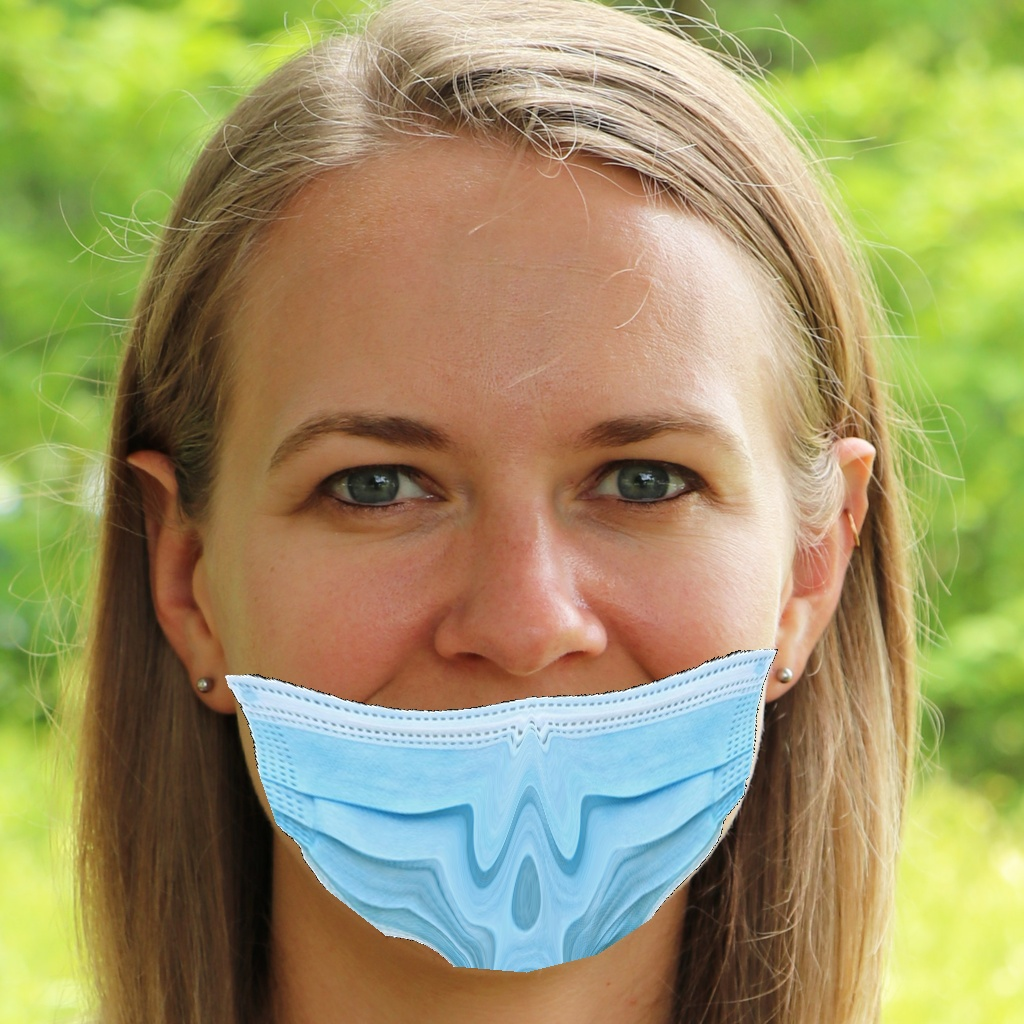mask_weared_incorrect: (197, 389, 790, 982)
